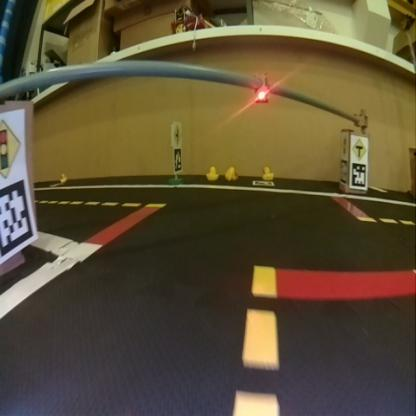Duckie: (205, 166, 217, 180), (225, 168, 237, 180), (262, 167, 273, 179), (60, 173, 66, 182)
Intersection sign: (351, 137, 367, 159), (173, 123, 180, 146)
QR code: (1, 179, 33, 254), (351, 163, 365, 185), (252, 178, 274, 186), (174, 150, 182, 170), (340, 161, 346, 183), (49, 181, 60, 187)
Signal sign: (0, 113, 22, 181), (341, 134, 348, 156)
Traffic light: (254, 74, 269, 102)
